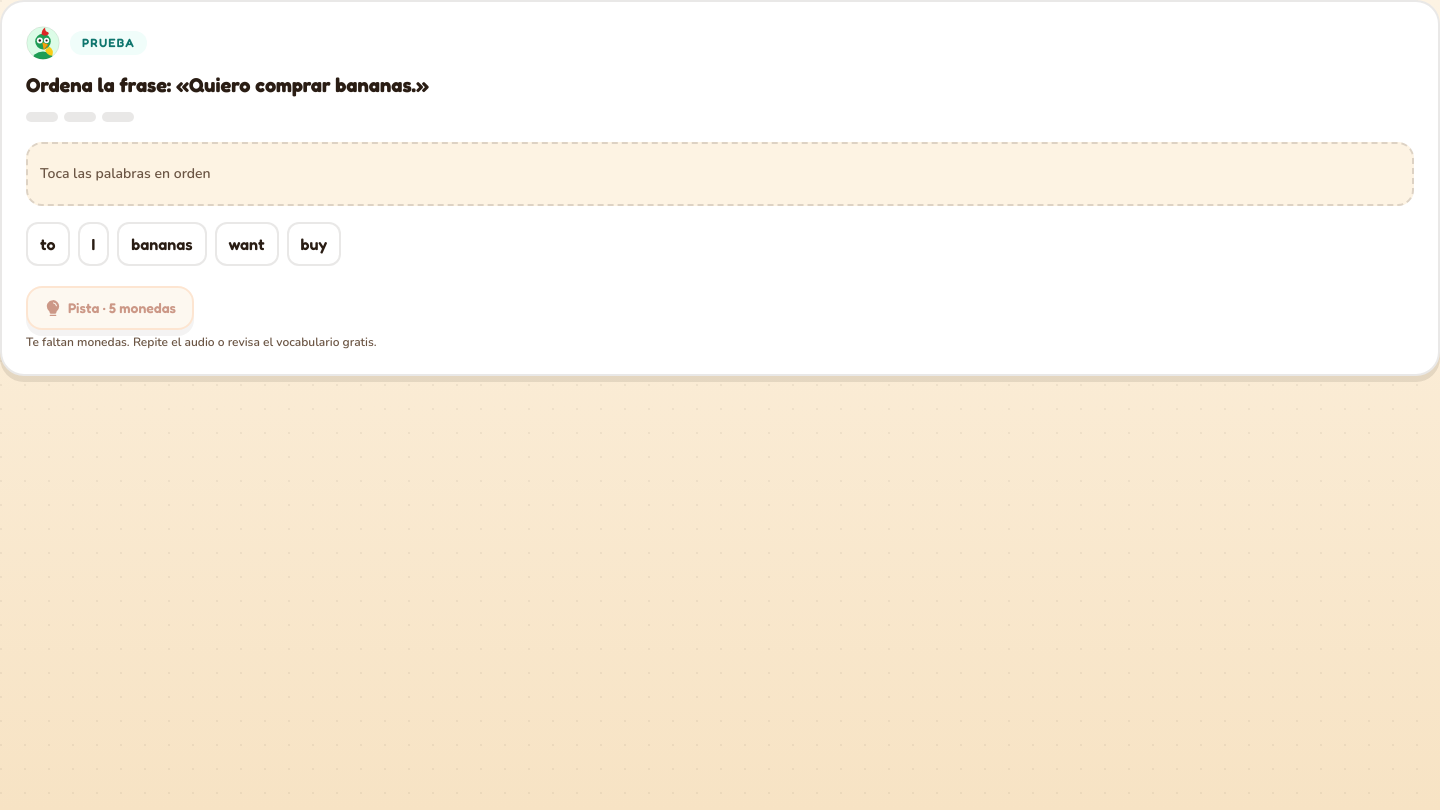
it: OrderChallenge › placed tokens can be removed
Click the button "I": x=93, y=244 [78,222,109,266]
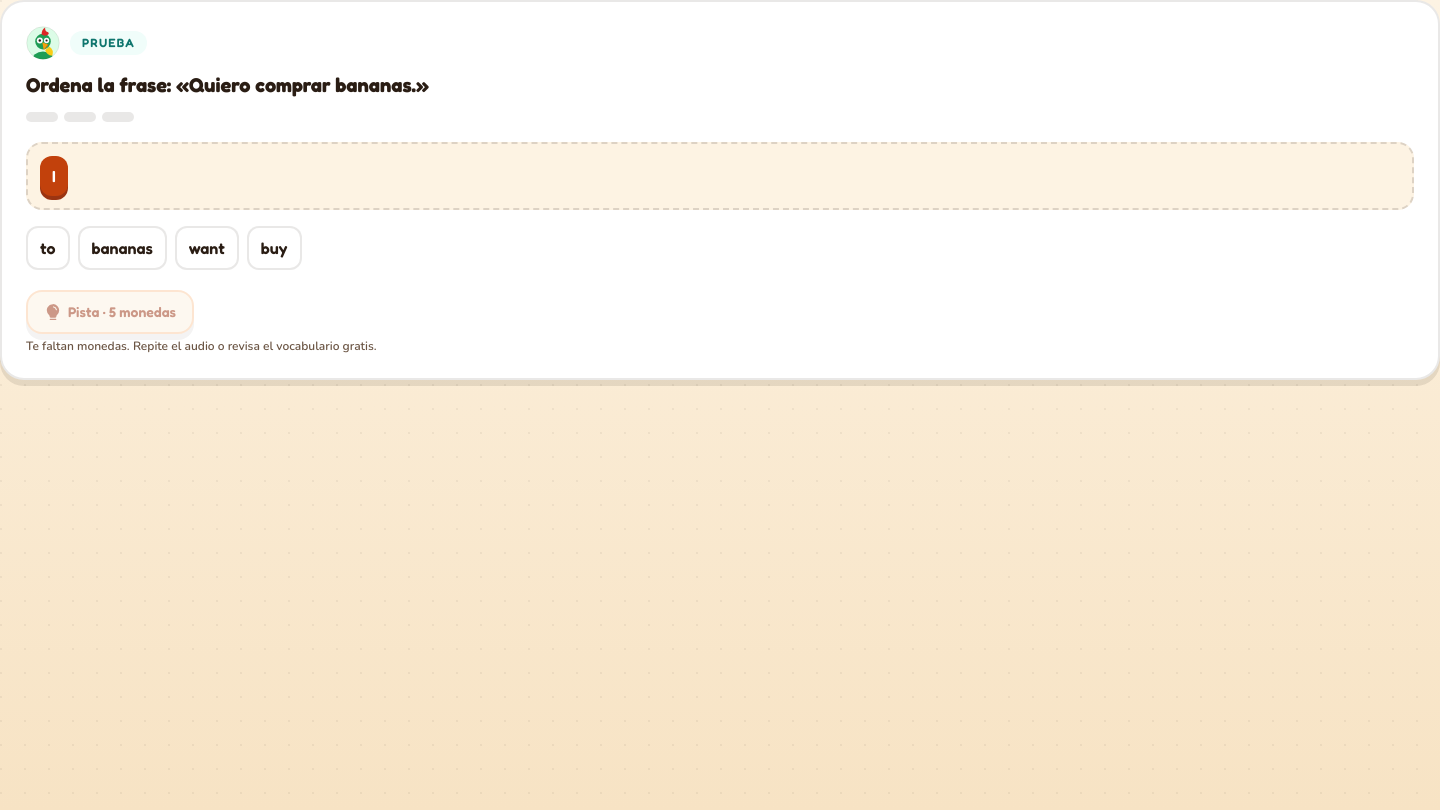
Click the button "I": x=54, y=176 [40,156,68,196]
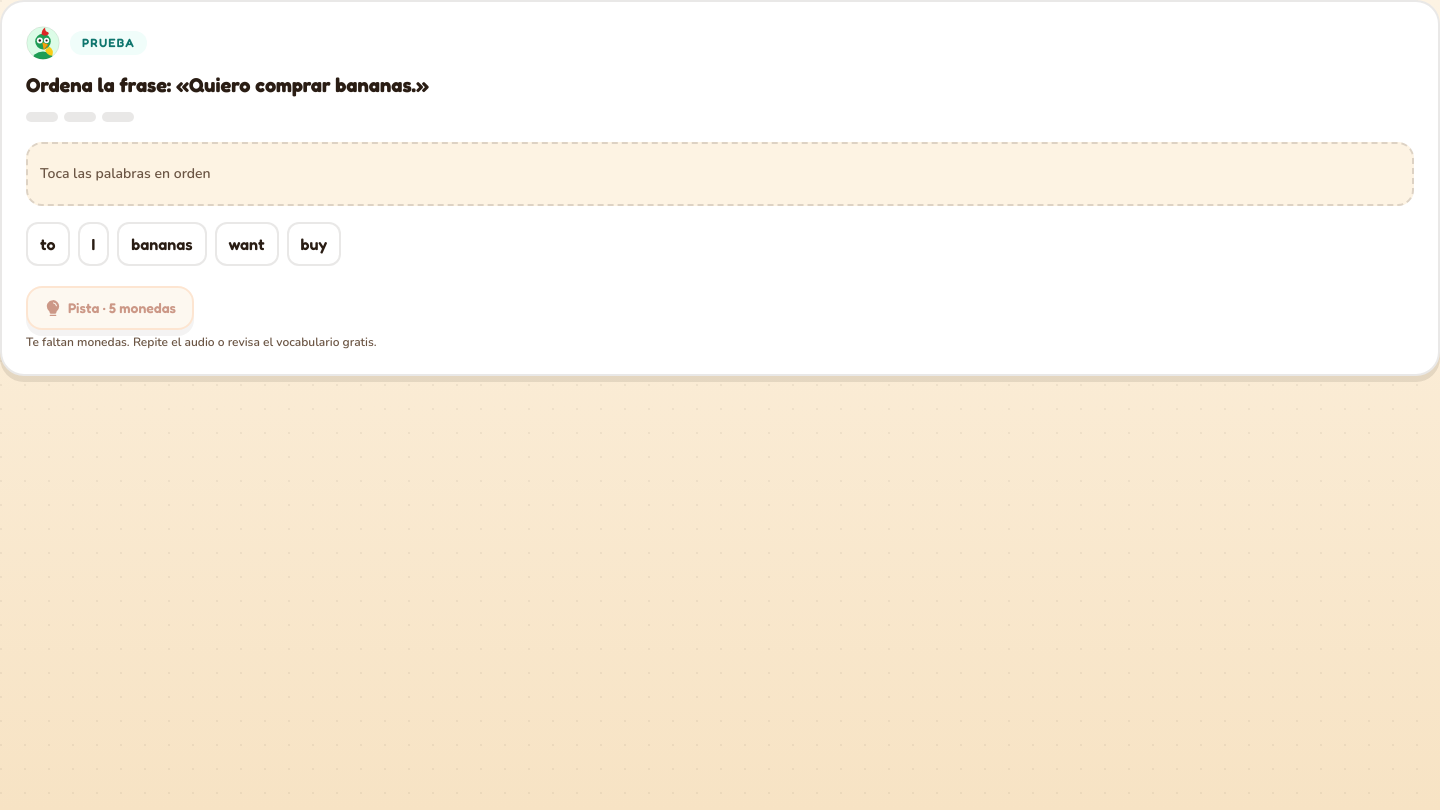
Check: the text "Toca las palabras en orden" is shown, box [40,164,211,184]
Submit the form with id "challenge-form", box [26,142,1414,266]
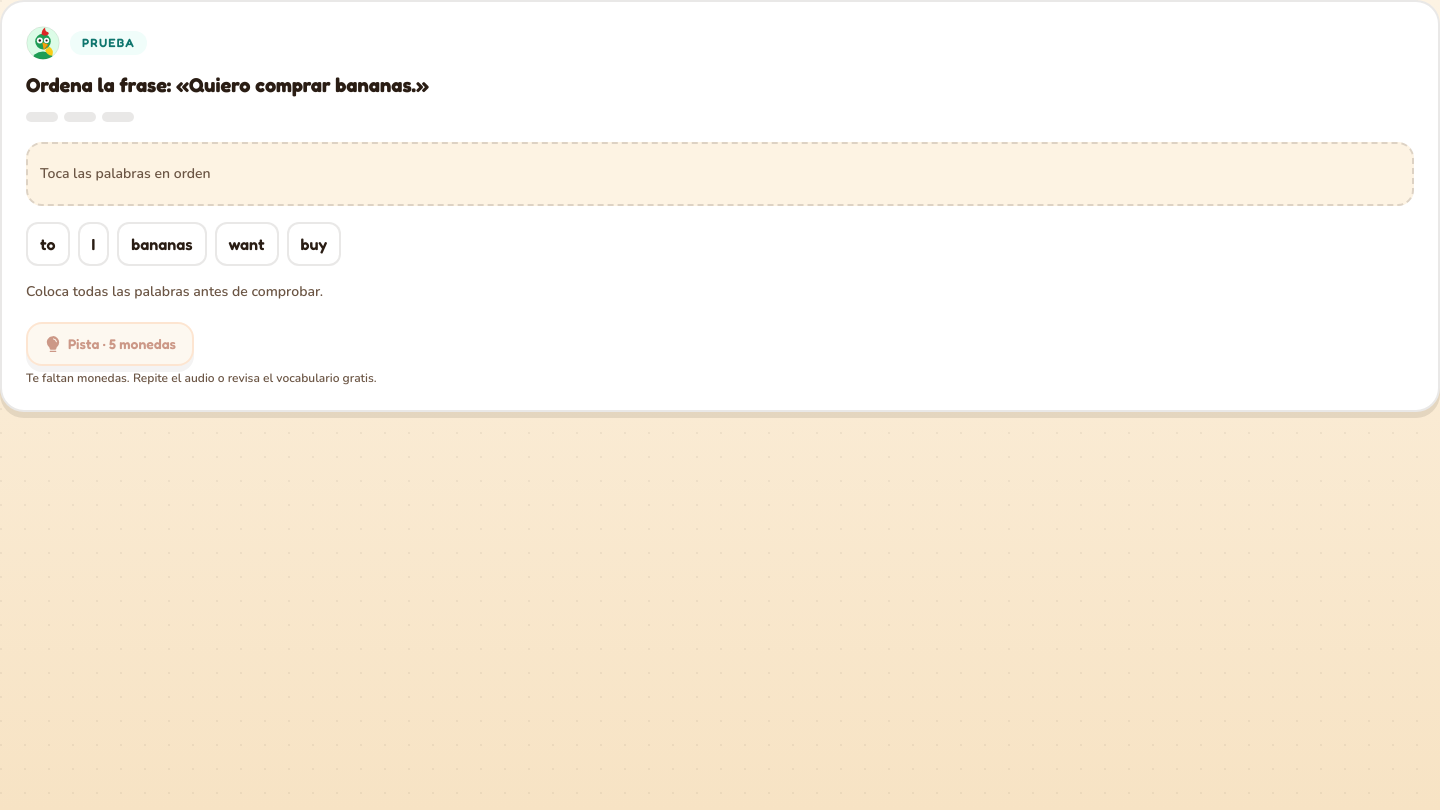
Check: the text "Coloca todas las palabras antes de comprobar." is shown, box [26,282,323,300]
